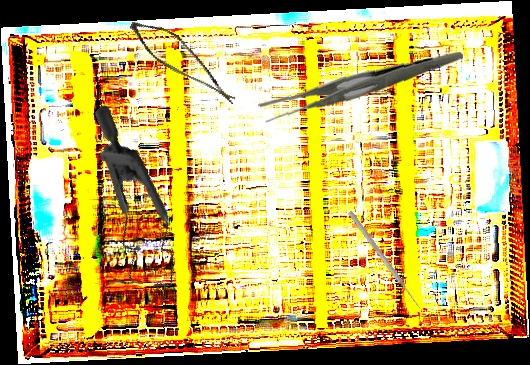Dressing Forceps: (257, 45, 464, 130)
Micro Scissor: (119, 14, 251, 106)
Pusher: (346, 209, 424, 312)
Speculum: (20, 103, 231, 311)
